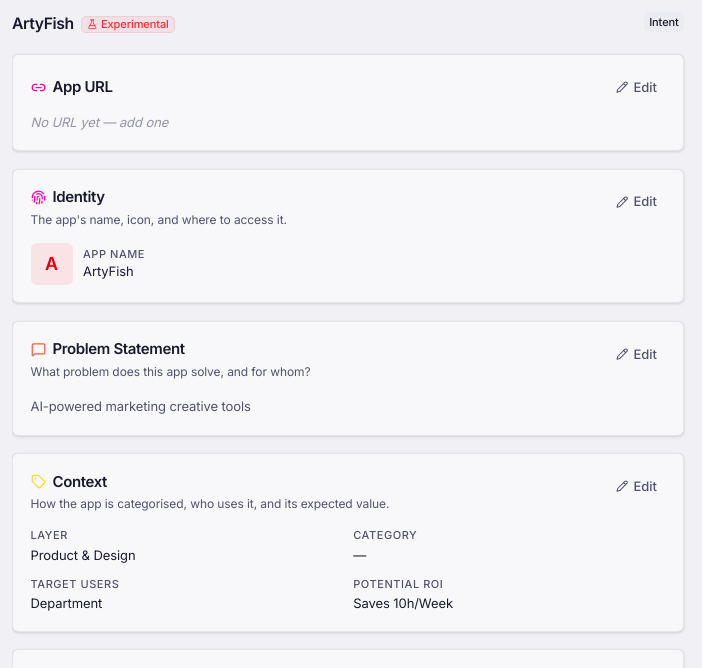
Scenario: AppProfileClient › enters edit mode when Edit is clicked on Identity section
The width and height of the screenshot is (702, 668).
Click the button "Edit" in the row of "Identity" at [636, 202], box [607, 187, 666, 217]
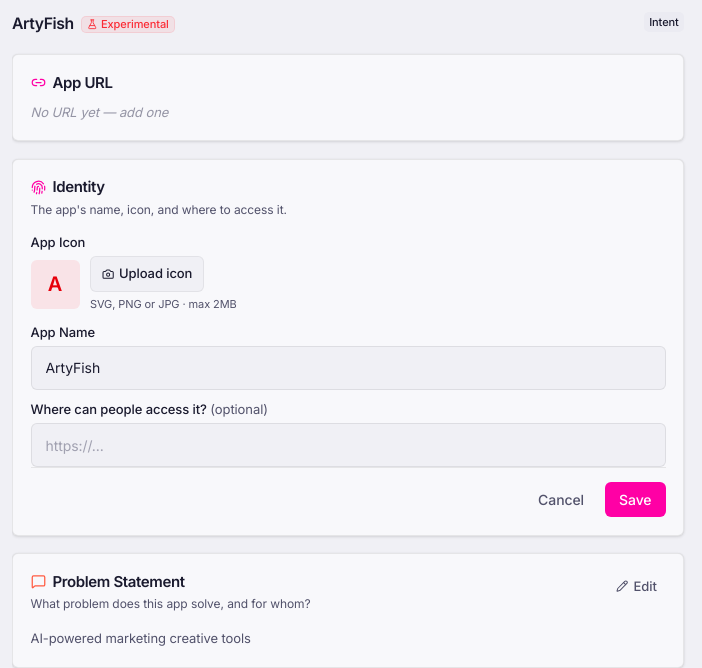
Result: the button "Save" is shown at [605, 482, 666, 517]
Result: the button "Cancel" is shown at [524, 482, 598, 517]
Result: the field labelled "App Name" is shown at [30, 346, 666, 390]
